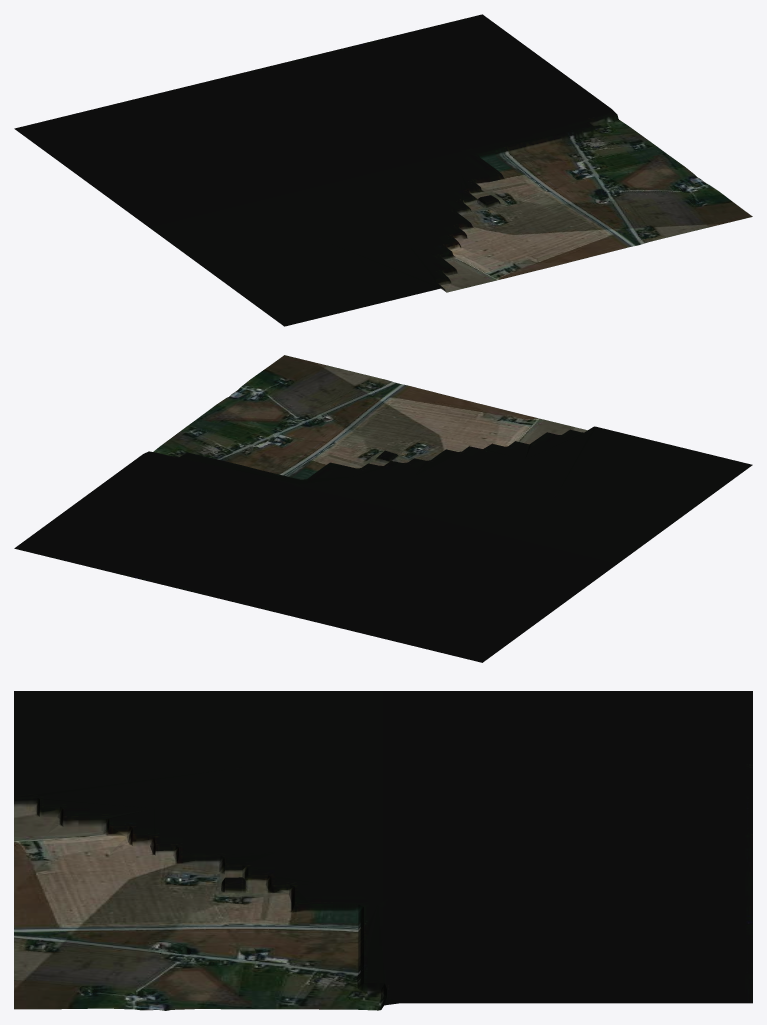
The model's file is map_10_252_433.dae.
3 renders of one model, top to bottom at view 1: azimuth 30°, elevation 25°; view 2: azimuth 150°, elevation 25°; view 3: azimuth 270°, elevation 25°, orthographic. The views are drawn at different scales.
Visible parts, largest first — view 1: Ter0; view 2: Ter0; view 3: Ter0.
Boxes of the visible parts, box(x1,y1,x2,y2) form: Ter0: box(14, 14, 752, 326); Ter0: box(14, 355, 752, 662); Ter0: box(14, 691, 752, 1010).
Bounding box in the file's own units: 2044 × 2044 × 34.15.
Materials: 4 (4 with a texture image).
